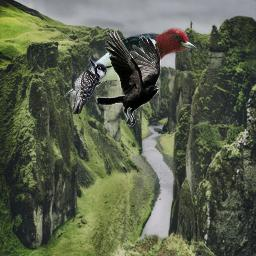Crow: (96, 30, 161, 129)
Woodpecker: (62, 22, 202, 104), (62, 57, 107, 114)
